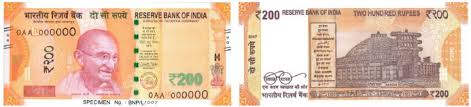twoHundred: (14, 23, 221, 92)
